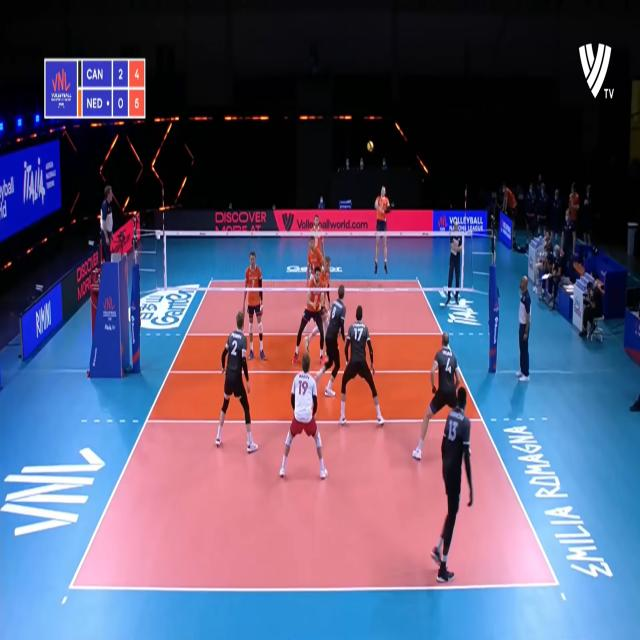player: (436, 383, 476, 587), (422, 330, 475, 456), (282, 353, 330, 489), (218, 312, 260, 460), (338, 307, 384, 434), (242, 251, 274, 368), (296, 268, 328, 361), (326, 280, 346, 413), (376, 176, 392, 274), (305, 234, 329, 276), (309, 208, 329, 255)
